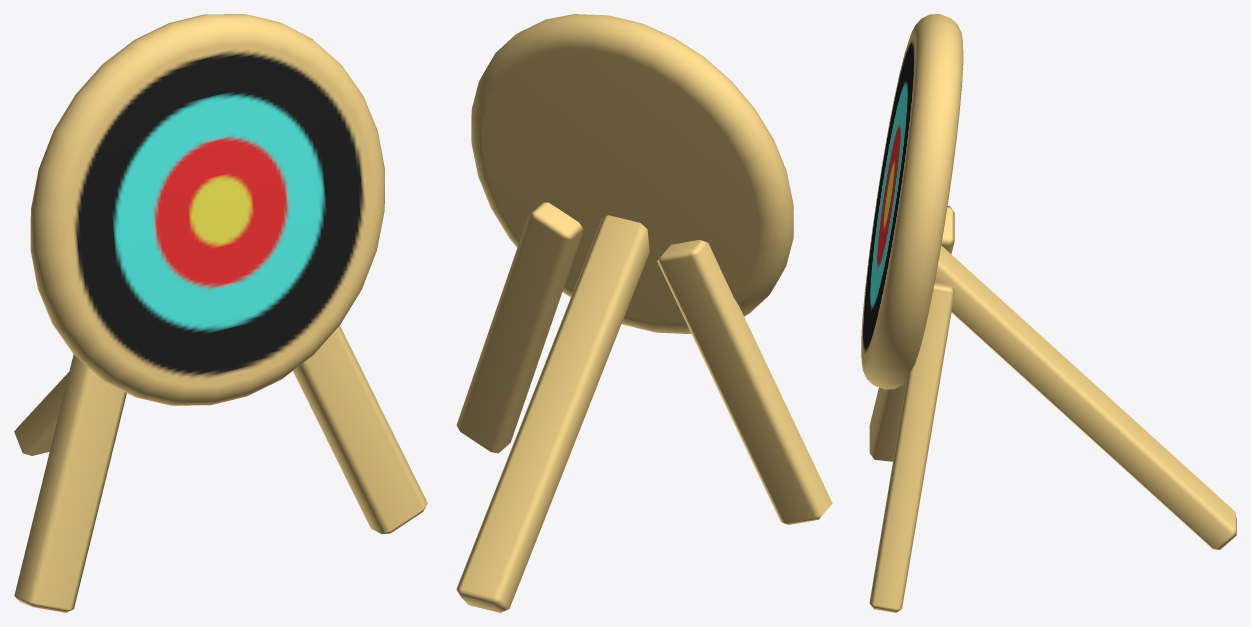
File: Target.fbx
3 renders of one model, left to right at view 1: azimuth 30°, elevation 25°; view 2: azimuth 150°, elevation 25°; view 3: azimuth 270°, elevation 25°, orthographic. The views are drawn at different scales.
Visible parts, largest first — view 1: pCylinder2; view 2: pCylinder2; view 3: pCylinder2.
Boxes of the visible parts, left/top/right/bottom form: pCylinder2: left=14, top=14, right=427, bottom=612; pCylinder2: left=456, top=14, right=832, bottom=612; pCylinder2: left=861, top=14, right=1236, bottom=612.
Size of the model in its own units: 6.94 by 8.85 by 5.91.
Materials: 1 (1 with a texture image).
